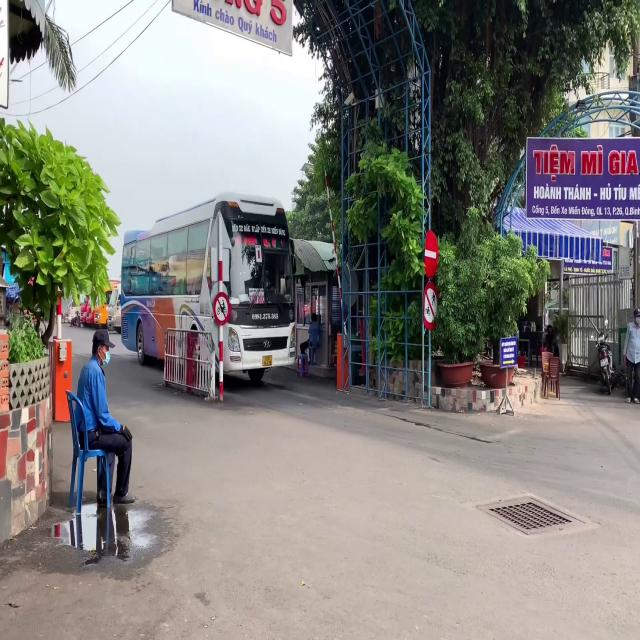bien_vang: (262, 355, 272, 366)
